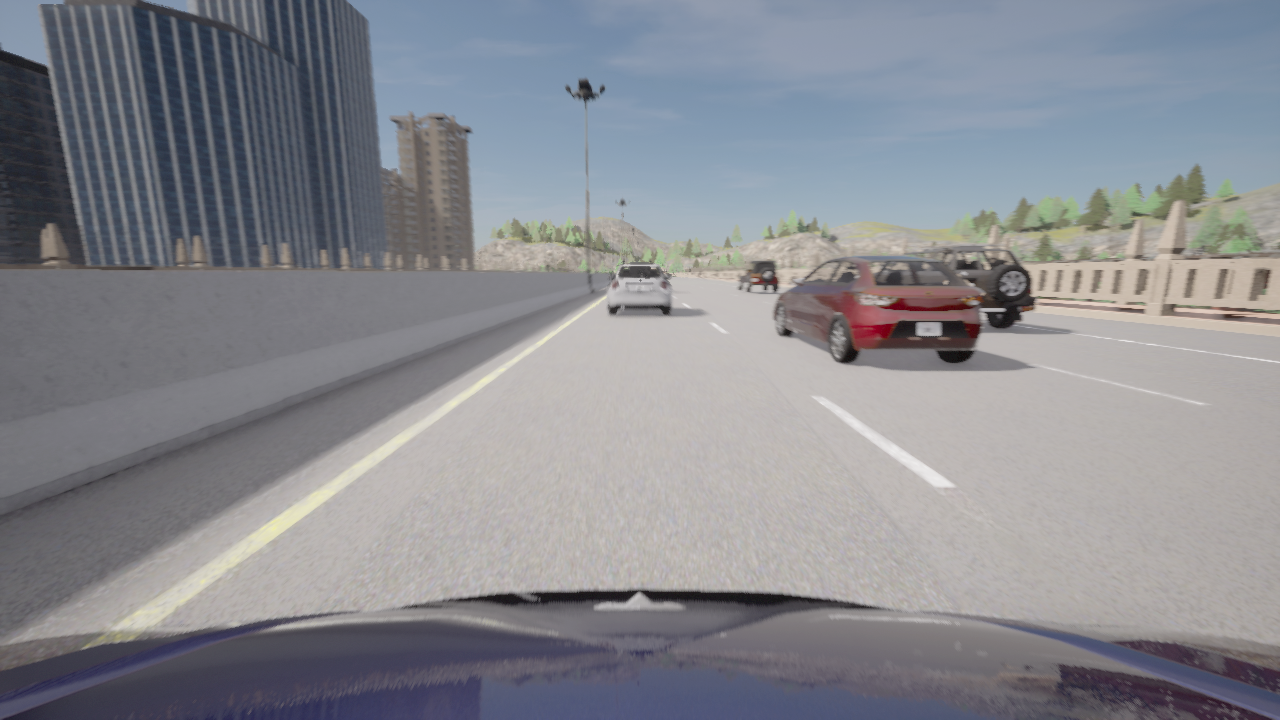cyclist: (0, 588, 1279, 719), (773, 255, 984, 362), (903, 244, 1036, 328), (607, 264, 672, 315)
